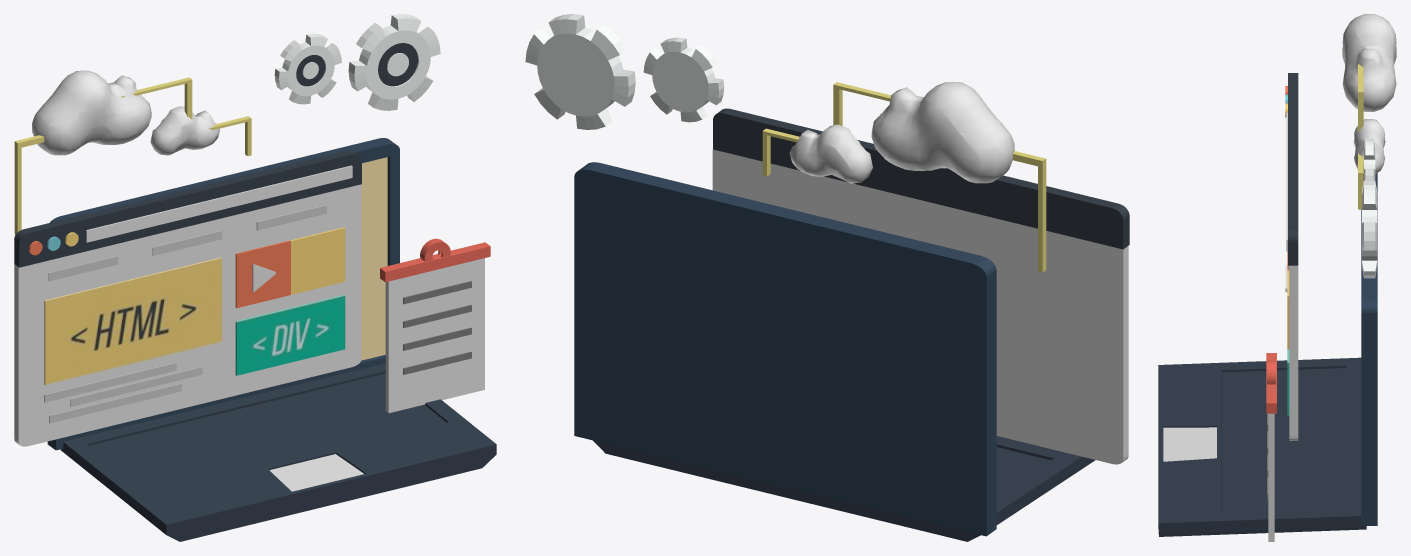
Rendered from design1-transformed.glb.
3 views of the same model, side by side, from view 1: azimuth 30°, elevation 25°; view 2: azimuth 150°, elevation 25°; view 3: azimuth 270°, elevation 25° (orthographic). The views are drawn at different scales.
Visible parts, largest first — view 1: Cube.007, Cube, Cube.001, Cube.008, Cube.006, Mball.008, Cube.003, Cylinder.003, Cube.002, Cube.005, Cube.016, Cylinder.004 (+4 smaller); view 2: Cube.006, Cube, Mball.008, Cylinder.003, Cube.007, Cylinder.004, Cube.014; view 3: Cube.007, Mball.008, Cube.006, Cube, Cylinder.003, Cube.008, Cube.009, Cube.014, Cylinder.004.
Part boxes in pixels (left/top/right/bottom): Cube.007: left=60, top=363, right=496, bottom=541; Cube: left=14, top=150, right=361, bottom=446; Cube.001: left=44, top=257, right=222, bottom=385; Cube.008: left=385, top=258, right=484, bottom=413; Cube.006: left=47, top=138, right=399, bottom=450; Mball.008: left=32, top=70, right=219, bottom=155; Cube.003: left=235, top=294, right=345, bottom=375; Cylinder.003: left=348, top=14, right=440, bottom=110; Cube.002: left=235, top=227, right=345, bottom=308; Cube.005: left=86, top=165, right=352, bottom=242; Cube.016: left=44, top=362, right=202, bottom=423; Cylinder.004: left=274, top=33, right=341, bottom=104; Cube.006: left=574, top=162, right=996, bottom=536; Cube: left=712, top=108, right=1129, bottom=464; Mball.008: left=789, top=82, right=1014, bottom=183; Cylinder.003: left=525, top=14, right=635, bottom=129; Cube.007: left=593, top=436, right=1095, bottom=541; Cylinder.004: left=643, top=37, right=724, bottom=122; Cube.014: left=762, top=82, right=1046, bottom=272; Cube.007: left=1158, top=357, right=1366, bottom=536; Mball.008: left=1342, top=14, right=1396, bottom=173; Cube.006: left=1361, top=173, right=1377, bottom=525; Cube: left=1288, top=73, right=1298, bottom=440; Cylinder.003: left=1362, top=180, right=1377, bottom=278; Cube.008: left=1268, top=413, right=1274, bottom=541; Cube.009: left=1266, top=353, right=1276, bottom=413; Cube.014: left=1358, top=64, right=1363, bottom=209; Cylinder.004: left=1364, top=138, right=1375, bottom=180.
Size of the model in its own units: 7.92 by 6.38 by 3.62.
Materials: 17 (1 with a texture image).
